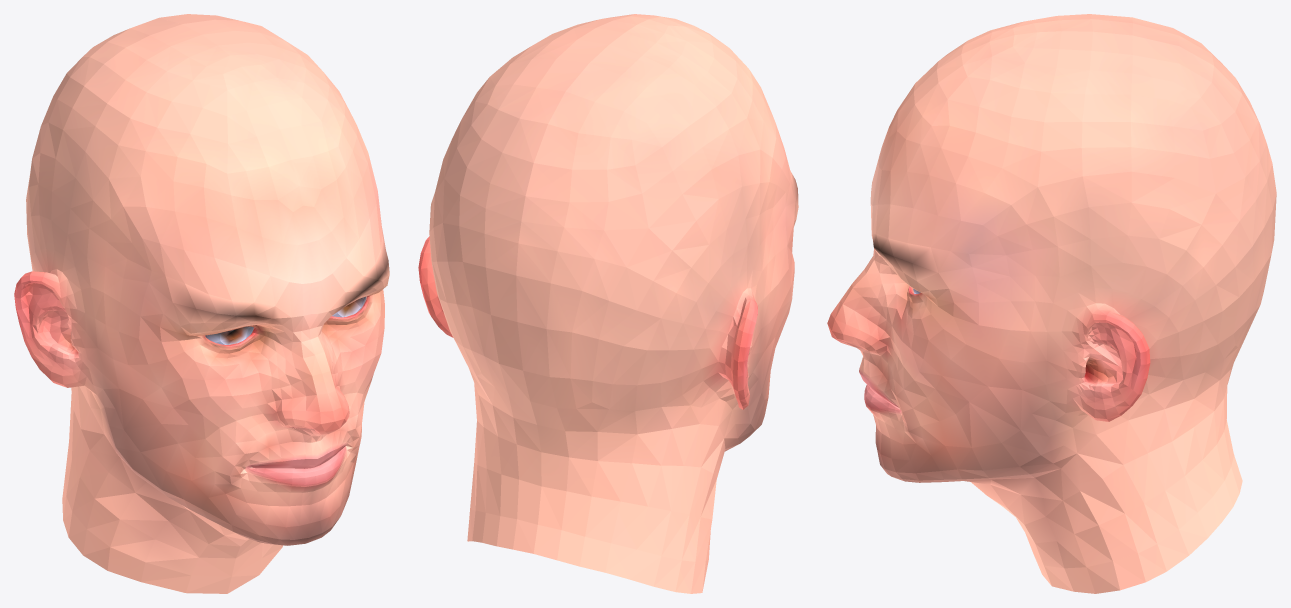
The model's file is male_head_faceted-v2.glb.
3 renders of one model, left to right at view 1: azimuth 30°, elevation 25°; view 2: azimuth 150°, elevation 25°; view 3: azimuth 270°, elevation 25°, orthographic.
Parts seen in each view (by area): view 1: BaseHead_Male_Faceted_defaultMat_0; view 2: BaseHead_Male_Faceted_defaultMat_0; view 3: BaseHead_Male_Faceted_defaultMat_0.
Boxes of the visible parts, box(x1,y1,x2,y2) form: BaseHead_Male_Faceted_defaultMat_0: box(14, 14, 389, 593); BaseHead_Male_Faceted_defaultMat_0: box(418, 14, 798, 593); BaseHead_Male_Faceted_defaultMat_0: box(827, 14, 1276, 593).
Size of the model in its own units: 19.56 by 30.96 by 23.2.
1 material, 1 textured.
